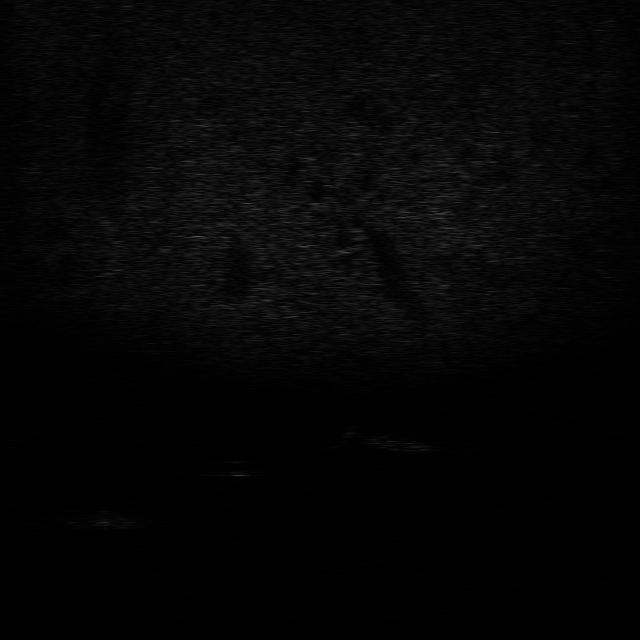ball: (208, 456, 264, 481)
circle cage: (55, 504, 139, 533)
human body: (325, 422, 444, 456)
